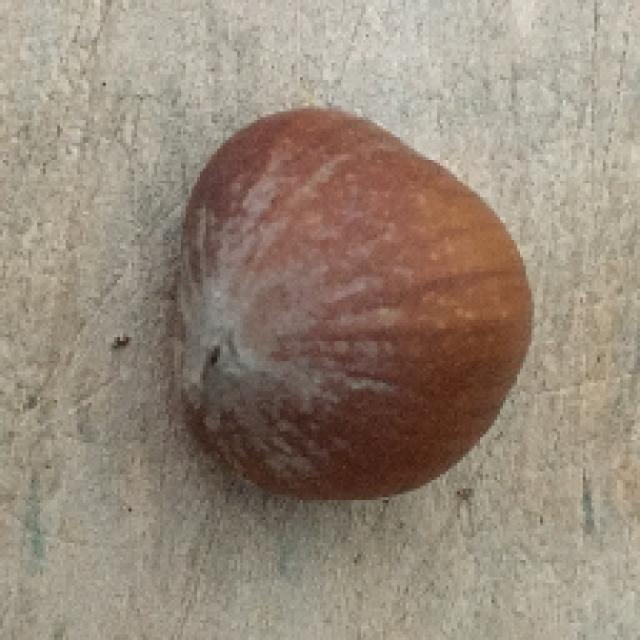qualityHazelnut: (169, 105, 535, 510)
